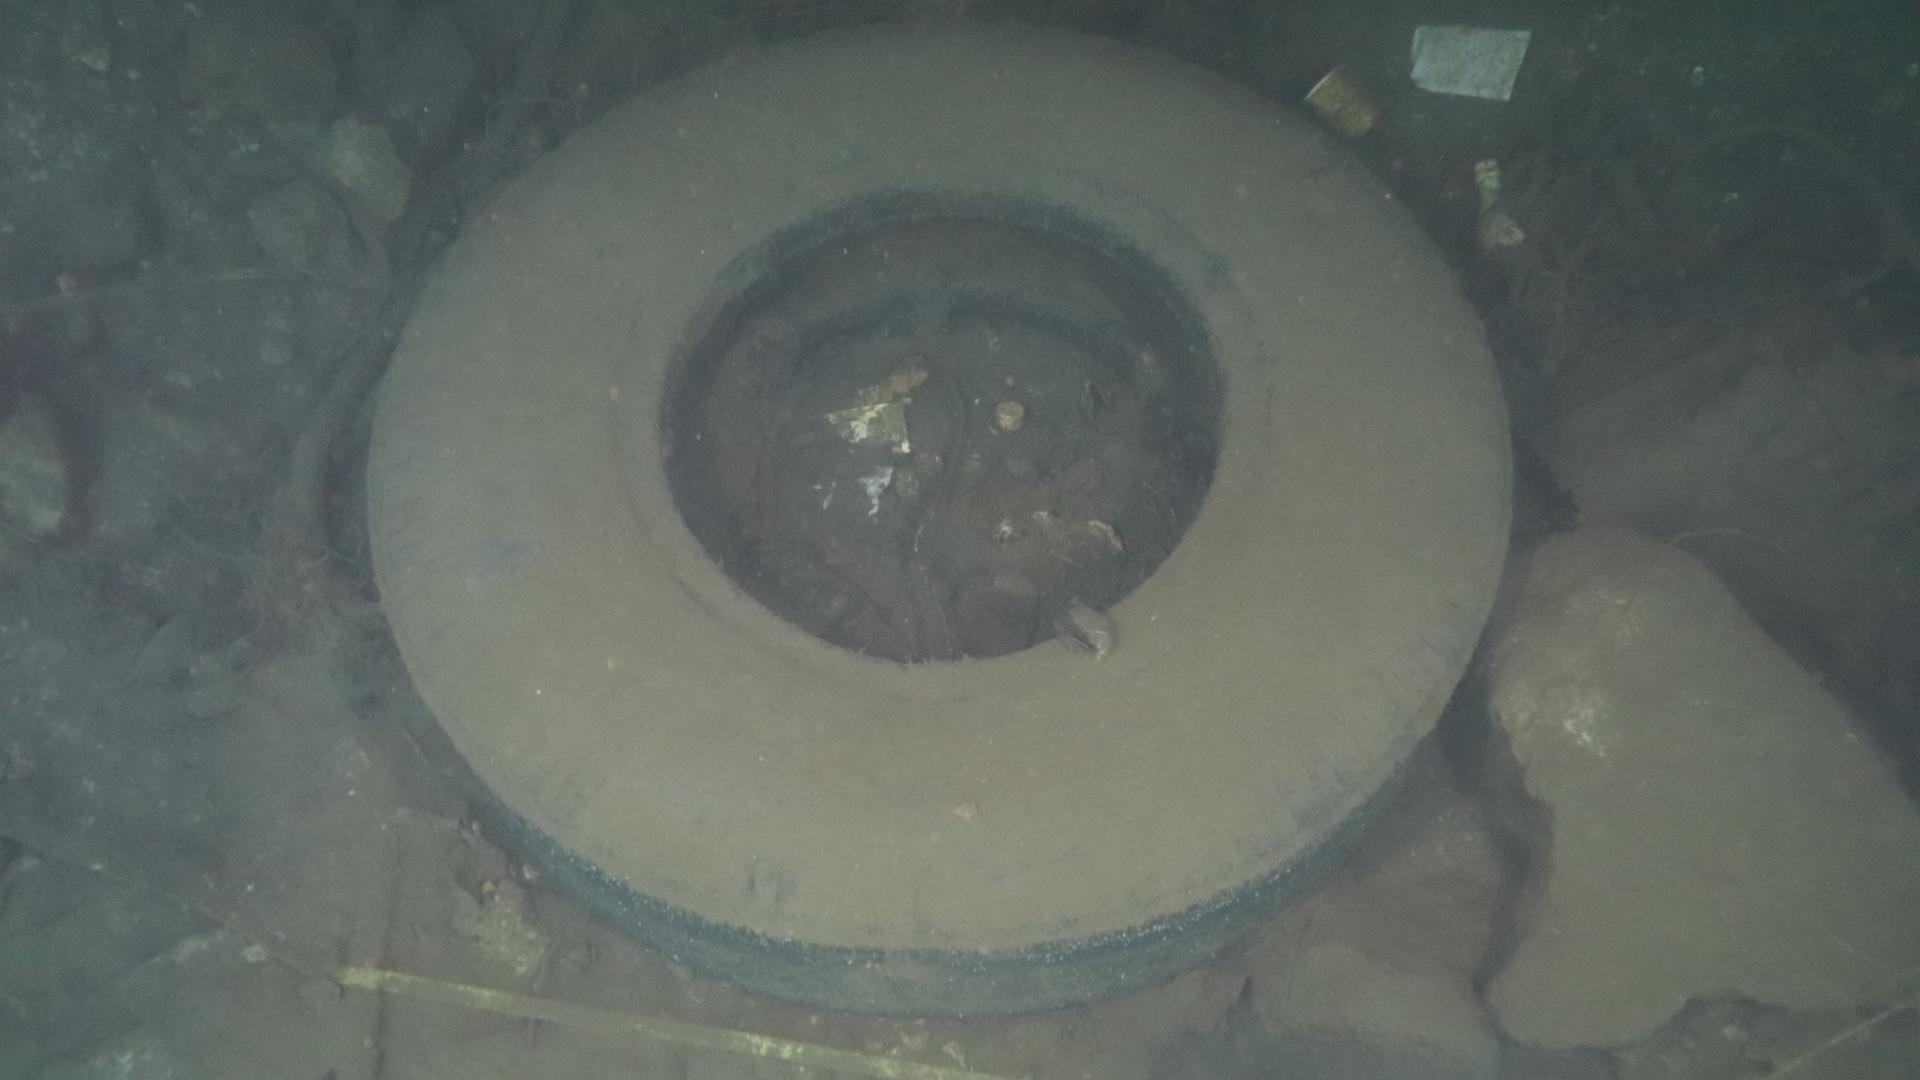tire: (365, 15, 1513, 1011)
